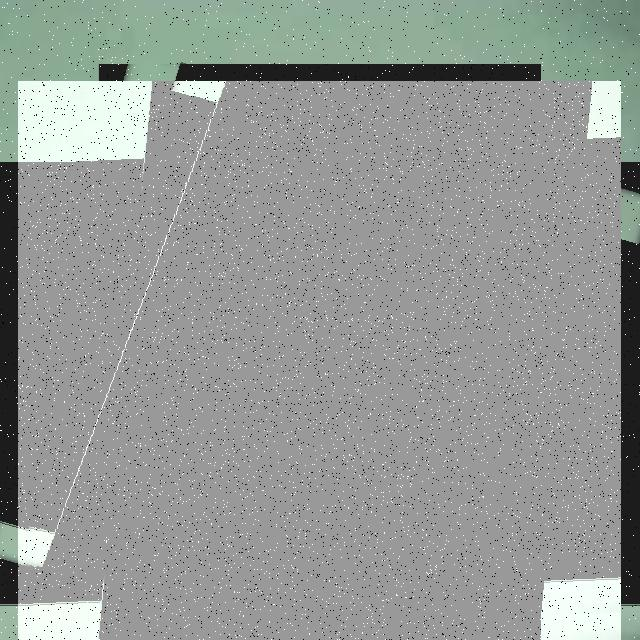dua ribu rupiah: (18, 81, 621, 640)
